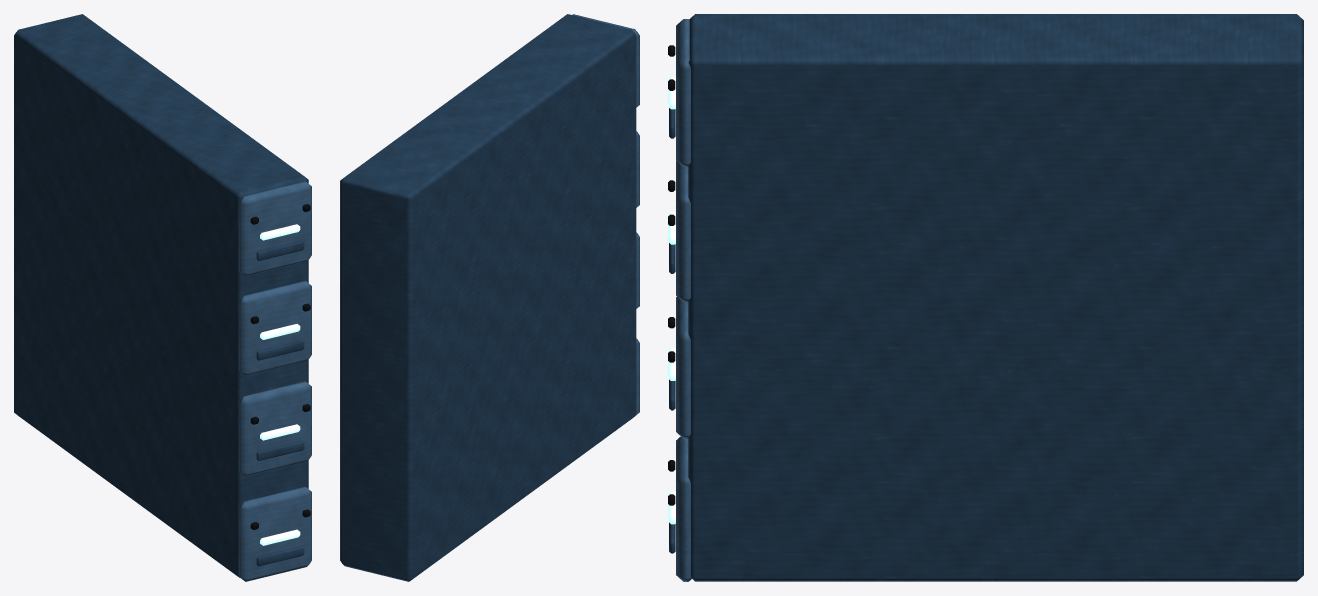
File: frozen_reactor_wall.glb
3 renders of one model, left to right at view 1: azimuth 30°, elevation 25°; view 2: azimuth 150°, elevation 25°; view 3: azimuth 270°, elevation 25°, orthographic. The views are drawn at different scales.
Parts seen in each view (by area): view 1: frozen_reactor_wall - frozen_reactor panels, frozen_reactor_wall - frozen_reactor trim, frozen_reactor_wall - frozen_reactor accents, frozen_reactor_wall - Recessed iron; view 2: frozen_reactor_wall - frozen_reactor panels, frozen_reactor_wall - frozen_reactor trim; view 3: frozen_reactor_wall - frozen_reactor panels, frozen_reactor_wall - frozen_reactor trim.
Part boxes in pixels (left/top/right/bottom): frozen_reactor_wall - frozen_reactor panels: left=14, top=14, right=308, bottom=577; frozen_reactor_wall - frozen_reactor trim: left=239, top=181, right=311, bottom=581; frozen_reactor_wall - frozen_reactor accents: left=260, top=224, right=300, bottom=545; frozen_reactor_wall - Recessed iron: left=250, top=204, right=310, bottom=529; frozen_reactor_wall - frozen_reactor panels: left=340, top=14, right=636, bottom=581; frozen_reactor_wall - frozen_reactor trim: left=572, top=14, right=639, bottom=414; frozen_reactor_wall - frozen_reactor panels: left=669, top=14, right=1303, bottom=581; frozen_reactor_wall - frozen_reactor trim: left=676, top=19, right=691, bottom=581.
Bounding box in the file's own units: 0.79 × 4.01 × 4.39.
4 materials, 3 textured.
